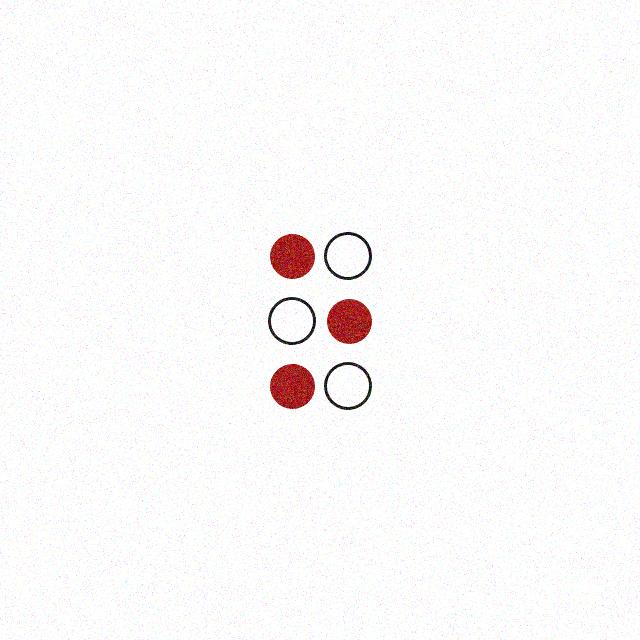O: (266, 230, 373, 413)
